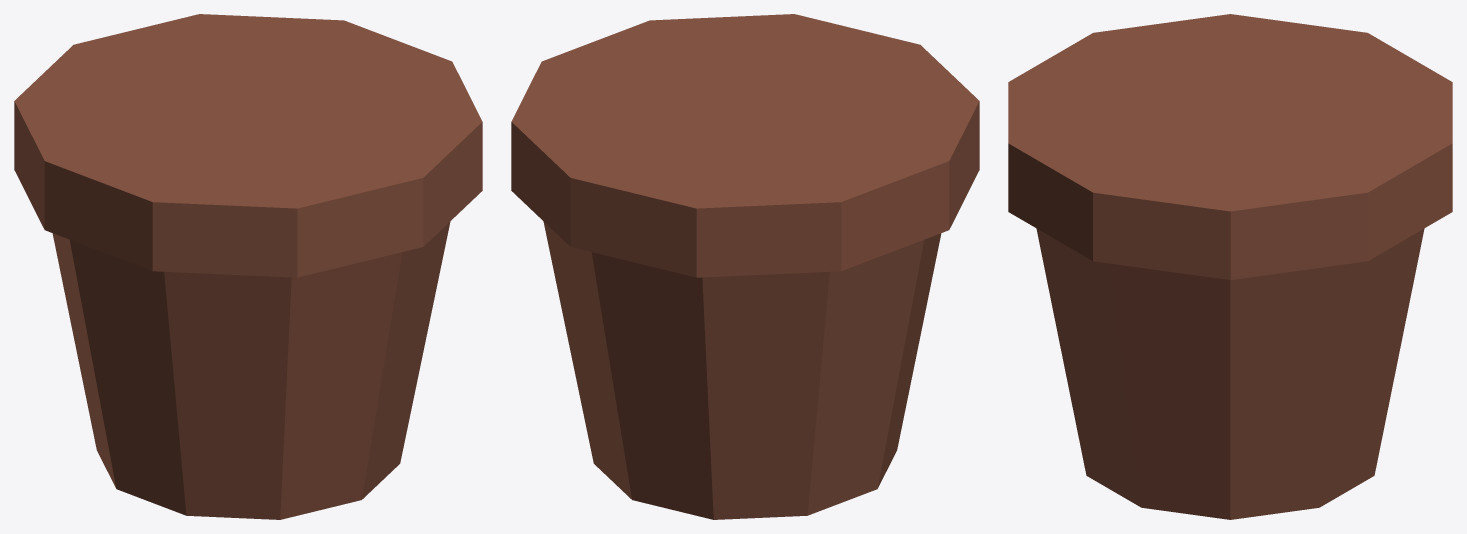
Rendered from potted_plant_pot.fbx.
3 renders of one model, left to right at view 1: azimuth 30°, elevation 25°; view 2: azimuth 150°, elevation 25°; view 3: azimuth 270°, elevation 25°, orthographic.
Visible parts, largest first — view 1: potted_plant_pot; view 2: potted_plant_pot; view 3: potted_plant_pot.
Boxes of the visible parts, box(x1,y1,x2,y2) form: potted_plant_pot: box(14, 14, 482, 519); potted_plant_pot: box(511, 14, 979, 519); potted_plant_pot: box(1008, 14, 1452, 519).
Bounding box in the file's own units: 216 × 175 × 205.
